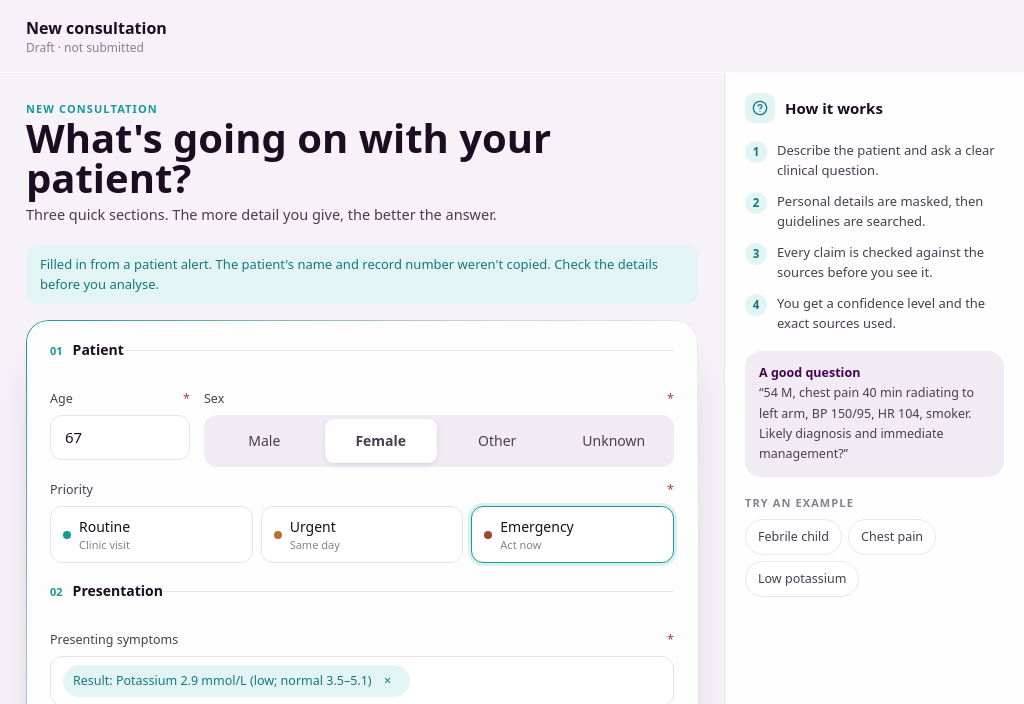
Test: Home from a patient alert › forgets the prefill when an example is chosen
Click the button "Febrile child": (794, 537) x1=745 y1=519 x2=842 y2=555
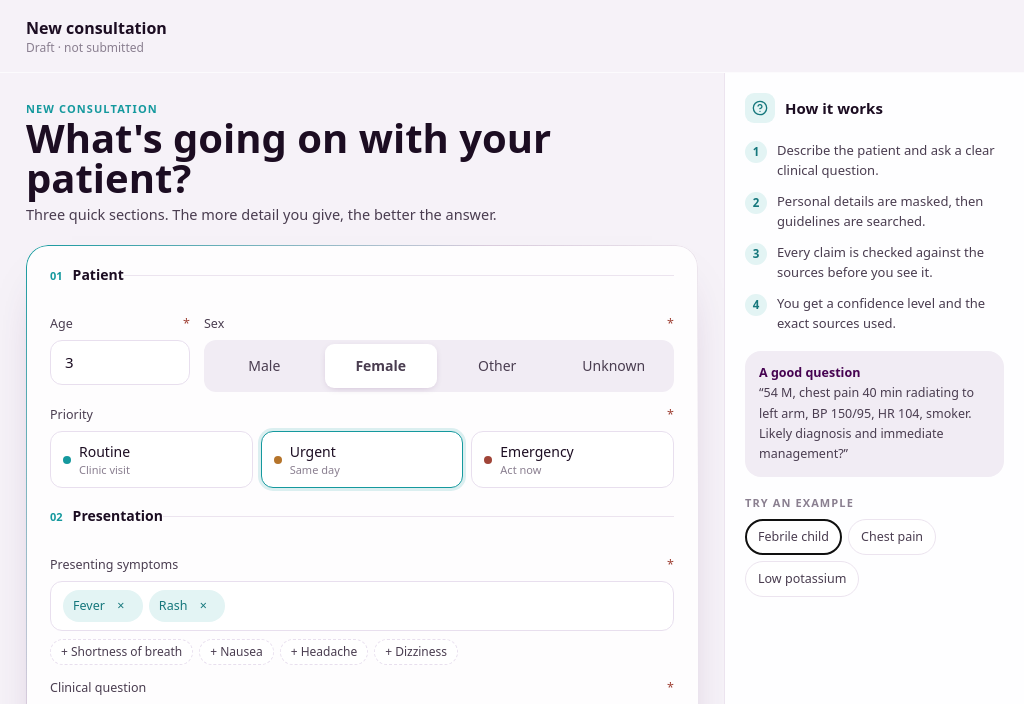
Check: the field labelled "Age *" holds "3", box x1=50 y1=340 x2=190 y2=384
Check: the text "Filled in from a patient alert" is gone
